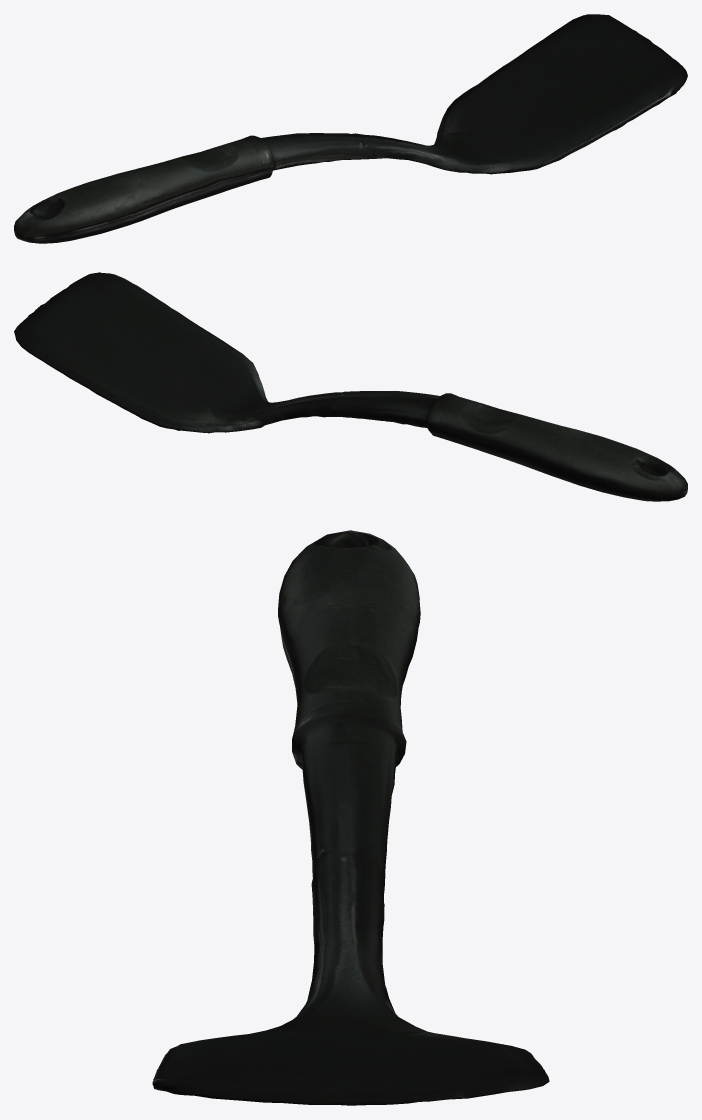
File: ground_truth.glb
3 views of the same model, one above another, from view 1: azimuth 30°, elevation 25°; view 2: azimuth 150°, elevation 25°; view 3: azimuth 270°, elevation 25° (orthographic). The views are drawn at different scales.
Visible parts, largest first — view 1: textured.044; view 2: textured.044; view 3: textured.044.
Part boxes in pixels (x1,y1,x2,y2): textured.044: [14, 14, 687, 243]; textured.044: [14, 272, 687, 501]; textured.044: [152, 530, 549, 1105].
Bounding box in the file's own units: 0.3113 × 0.0329 × 0.0836.
1 material, 1 textured.
